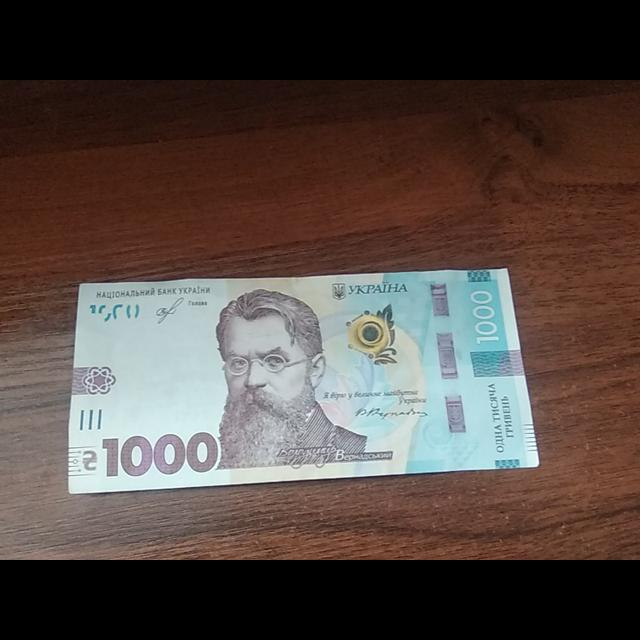1000uah: (72, 268, 539, 494)
